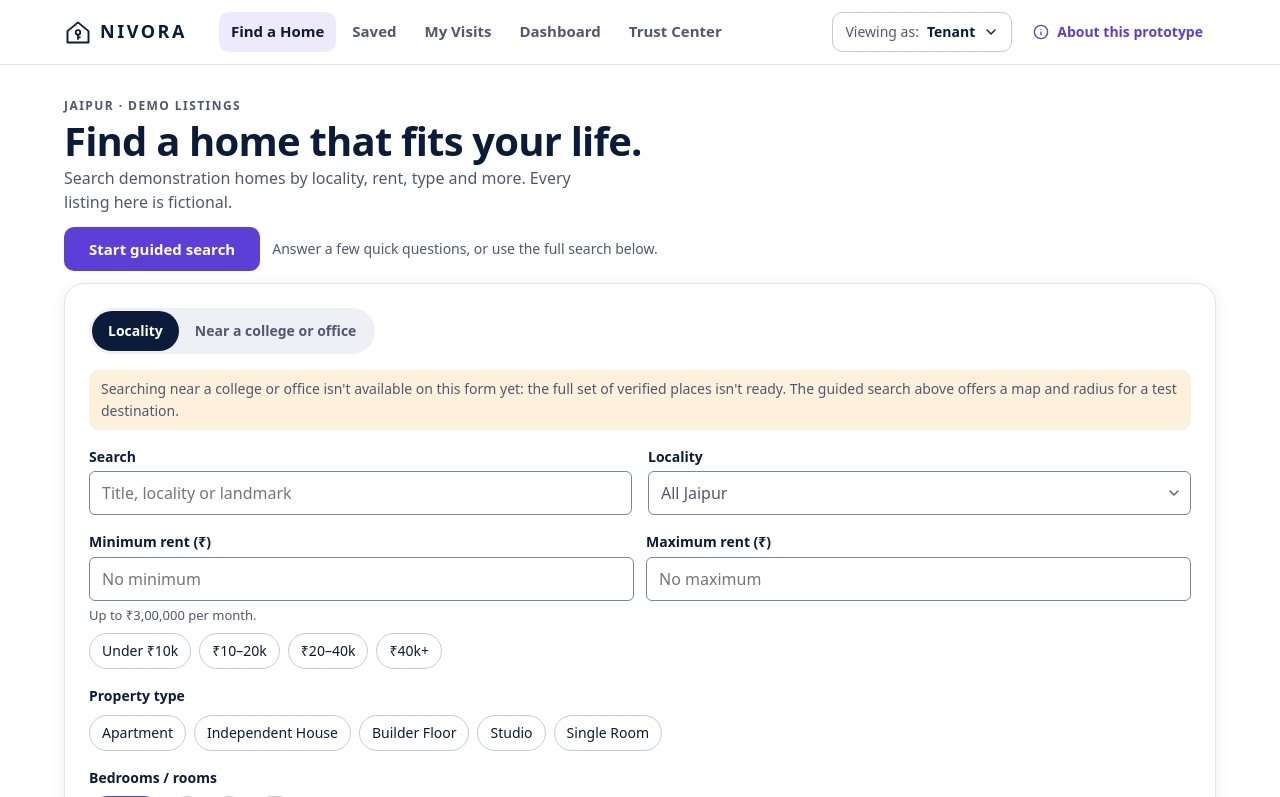
Test: T-01 Tenant Home › rent presets fill both inputs
The width and height of the screenshot is (1280, 797).
Click the button "₹10–20k": click(240, 651) [199,633,280,669]
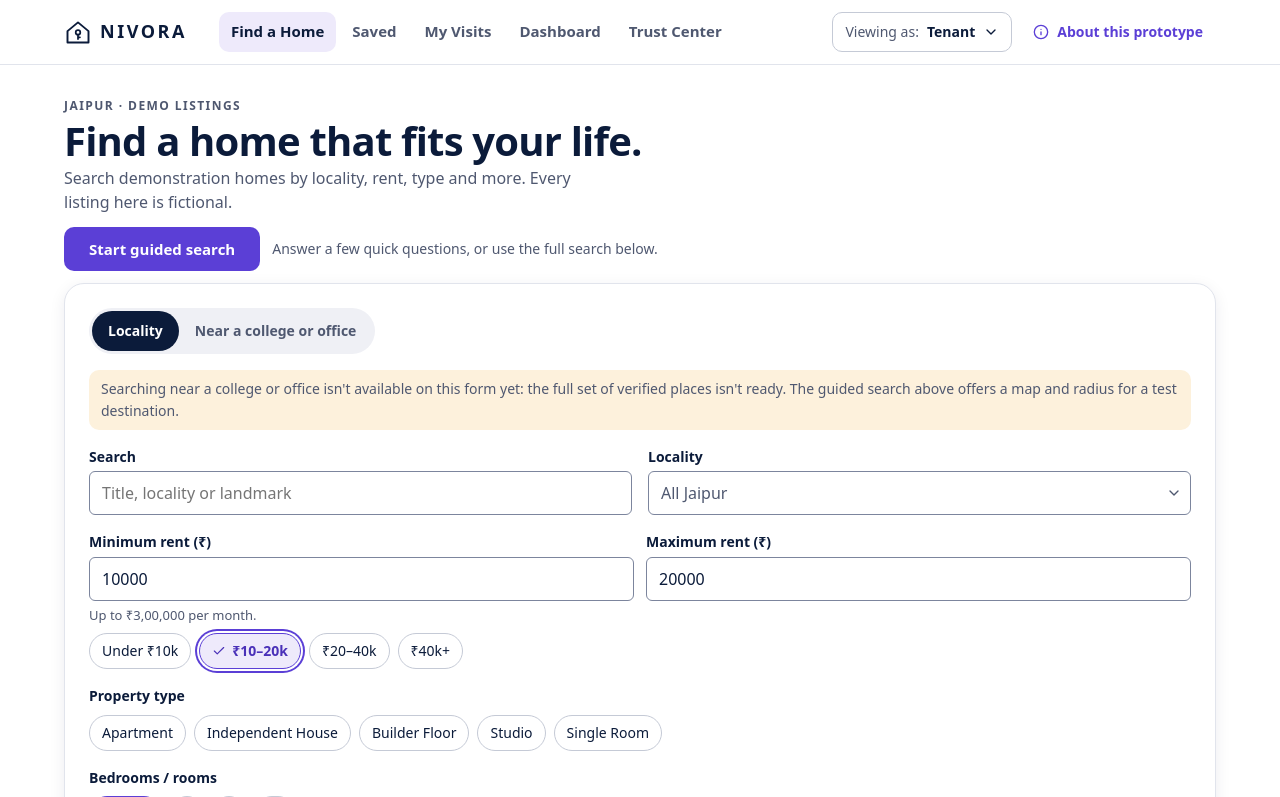
Check: the field labelled "Minimum rent (₹)" holds "10000", box [89,557,634,601]
Check: the field labelled "Maximum rent (₹)" holds "20000", box [646,557,1191,601]
